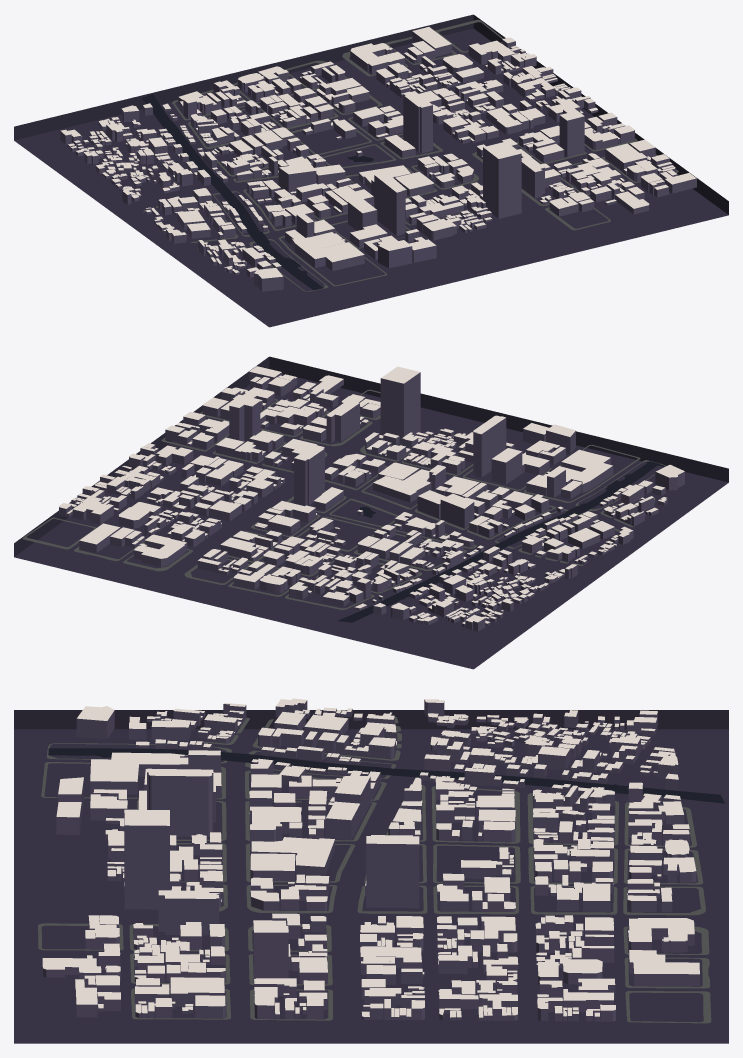
File: city.glb
3 renders of one model, top to bottom at view 1: azimuth 30°, elevation 25°; view 2: azimuth 150°, elevation 25°; view 3: azimuth 270°, elevation 25°, orthographic. The views are drawn at different scales.
Parts seen in each view (by area): view 1: map_2.osm_buildings, Cube.006, map_2.osm_areas_pedestrian, map_2.osm_water; view 2: map_2.osm_buildings, Cube.006, map_2.osm_areas_pedestrian, map_2.osm_water; view 3: map_2.osm_buildings, Cube.006, map_2.osm_areas_pedestrian, map_2.osm_water.
Boxes of the visible parts, box(x1,y1,x2,y2) form: map_2.osm_buildings: box(60, 27, 696, 291); Cube.006: box(14, 14, 728, 327); map_2.osm_areas_pedestrian: box(143, 19, 678, 291); map_2.osm_water: box(142, 94, 373, 290); map_2.osm_buildings: box(59, 366, 684, 631); Cube.006: box(14, 356, 728, 669); map_2.osm_areas_pedestrian: box(22, 389, 665, 609); map_2.osm_water: box(338, 461, 659, 622); map_2.osm_buildings: box(42, 698, 699, 1021); Cube.006: box(14, 710, 728, 1043); map_2.osm_areas_pedestrian: box(38, 717, 711, 1023); map_2.osm_water: box(48, 748, 724, 803).
Size of the model in its own units: 4.44 by 0.6808 by 4.27.
